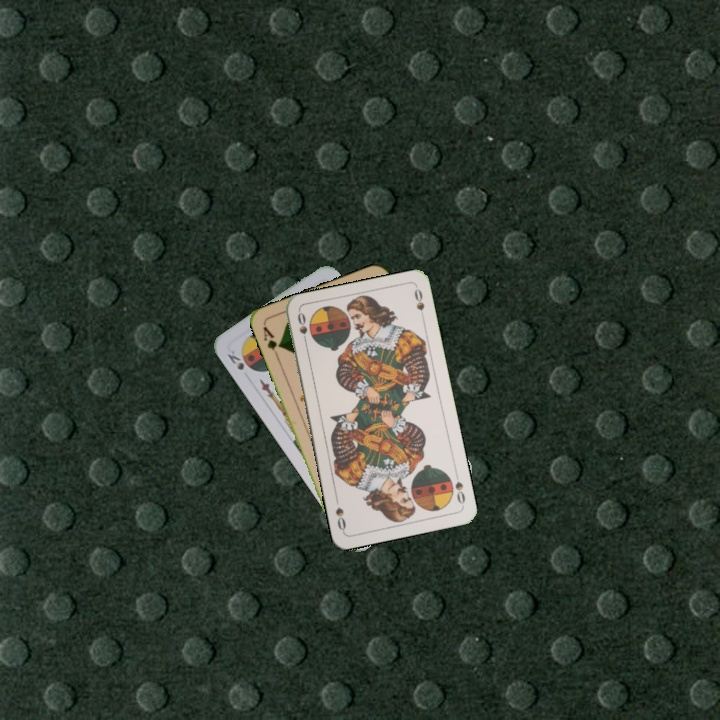GA: (259, 322, 284, 360)
SK: (223, 346, 247, 373)
SO: (293, 308, 310, 349), (451, 468, 468, 508)
